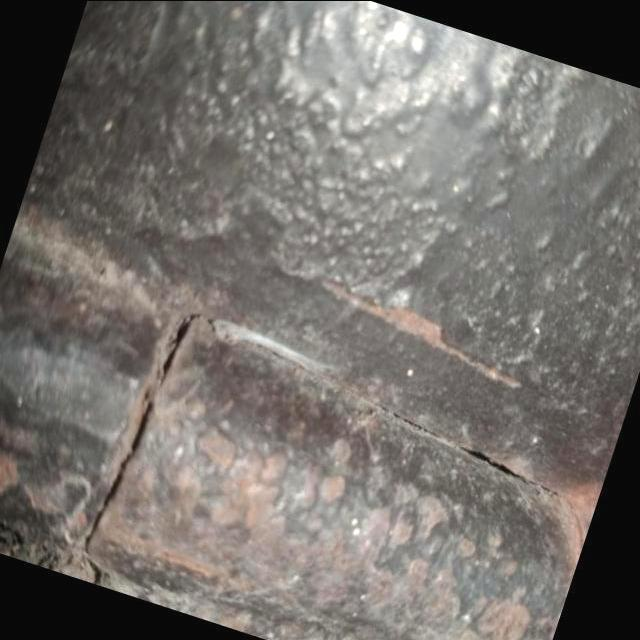defect: (81, 306, 209, 582), (456, 445, 567, 498), (374, 400, 441, 438)
